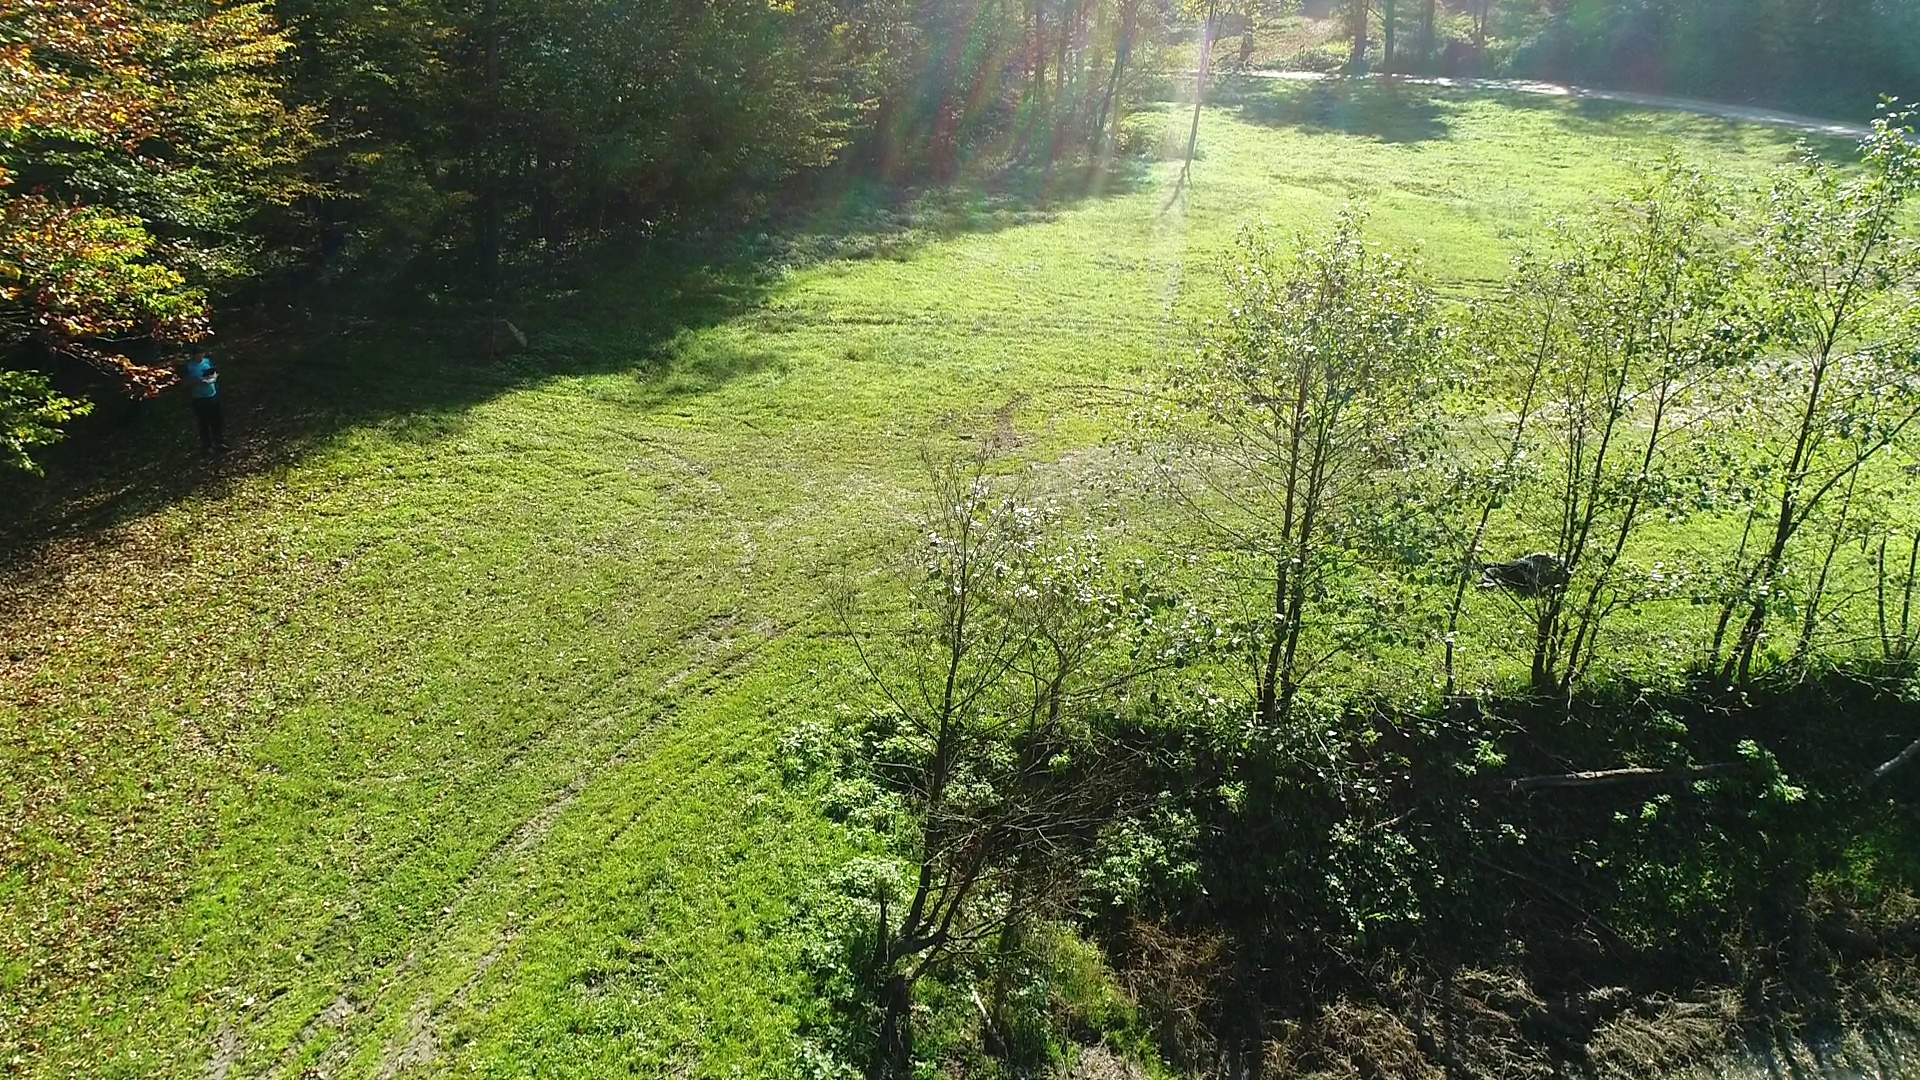person: (183, 348, 233, 456), (1475, 552, 1574, 593)
